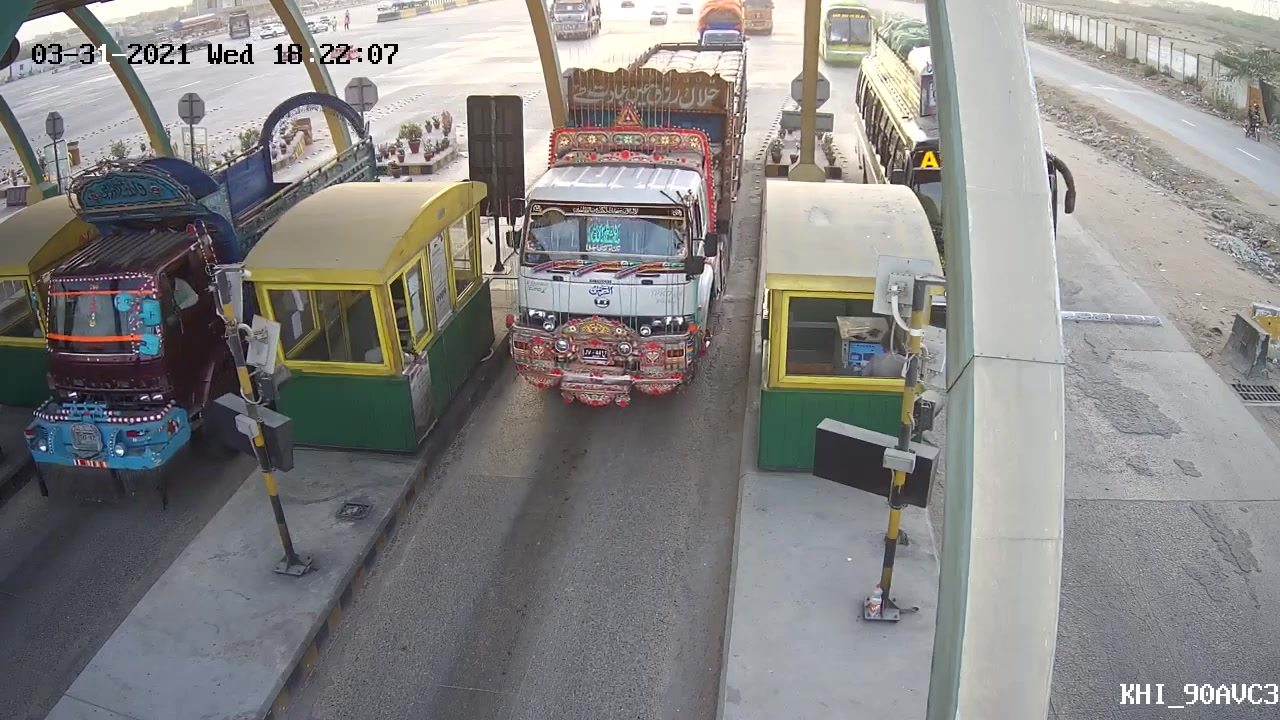F5: (490, 72, 737, 411)
